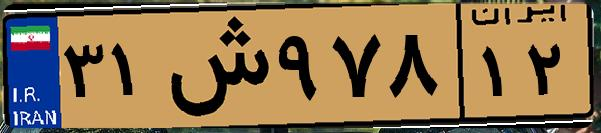1: (475, 38, 525, 113), (110, 28, 158, 98)
2: (525, 38, 570, 115)
3: (57, 26, 110, 100)
7: (330, 28, 385, 110)
8: (385, 28, 445, 110)
9: (270, 28, 330, 110)
ش: (158, 12, 270, 120)
